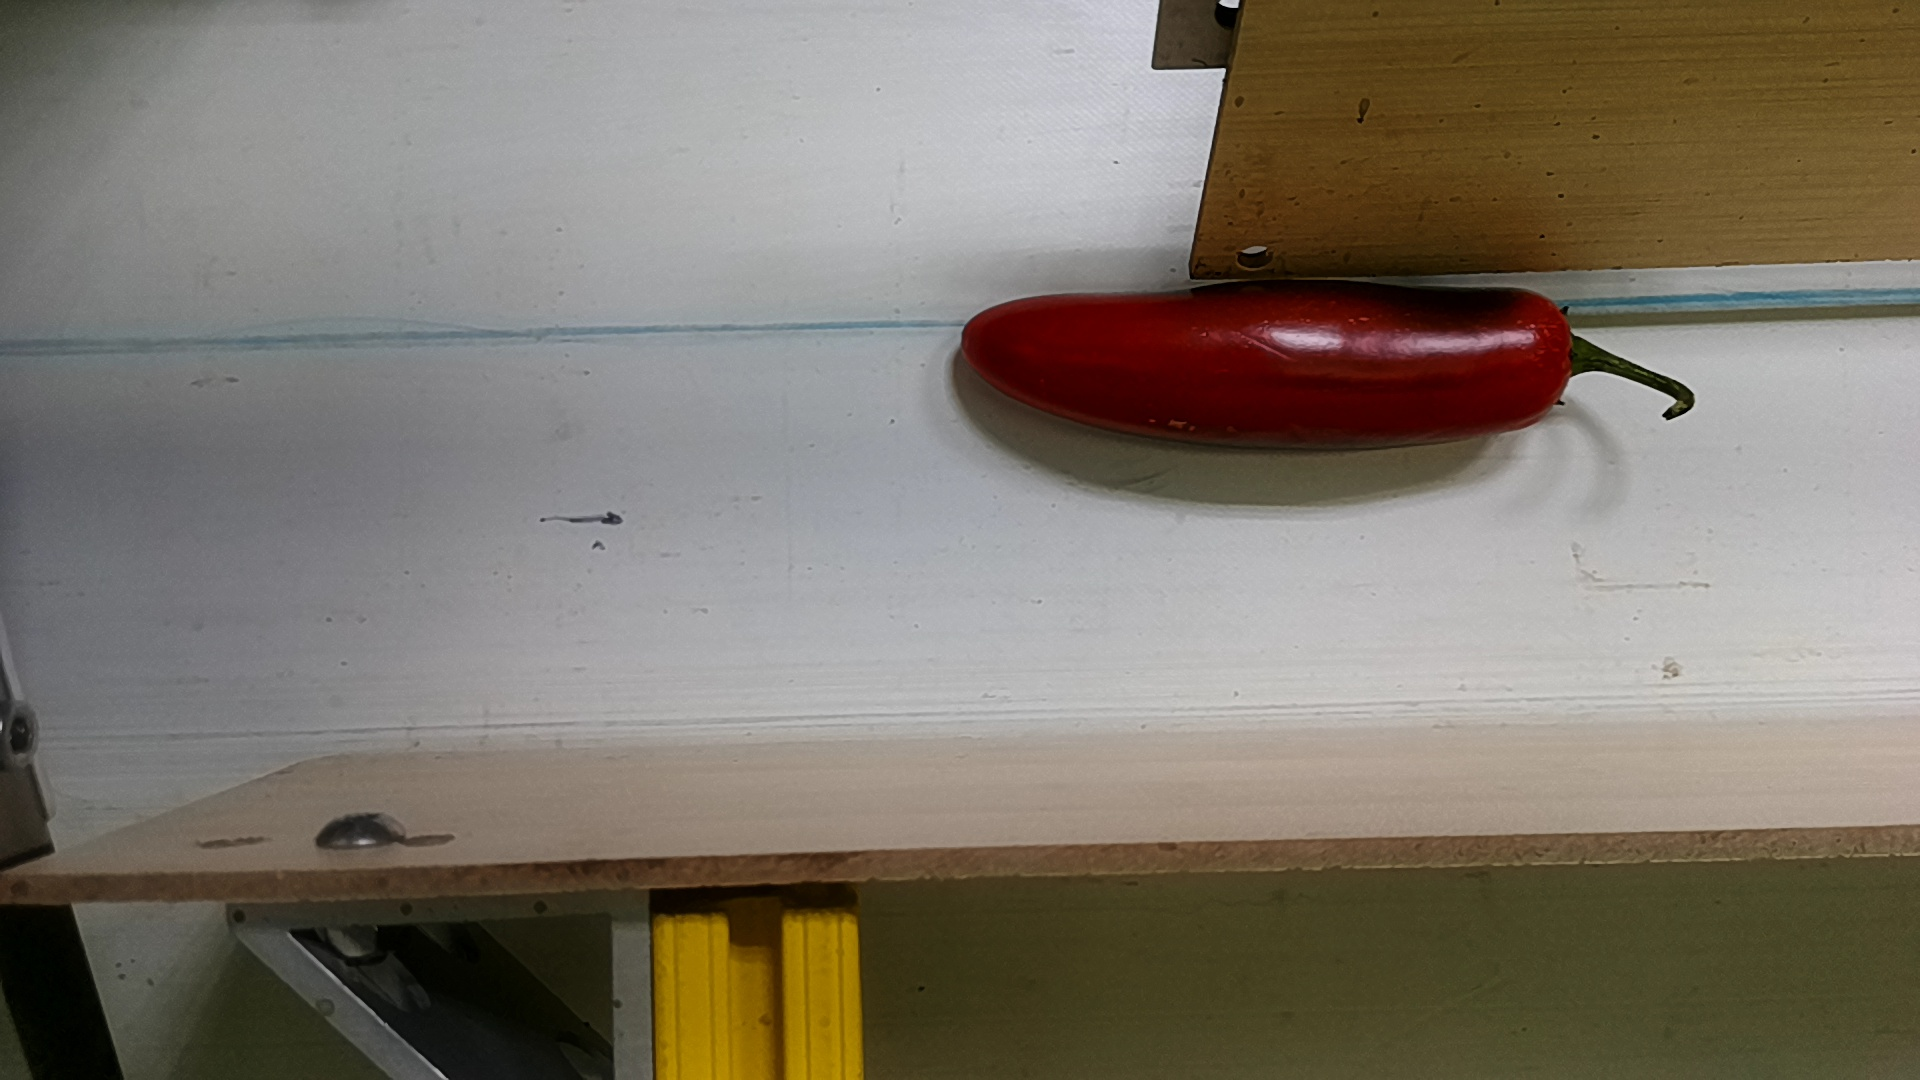Cut Point: (1510, 282, 1600, 427)
